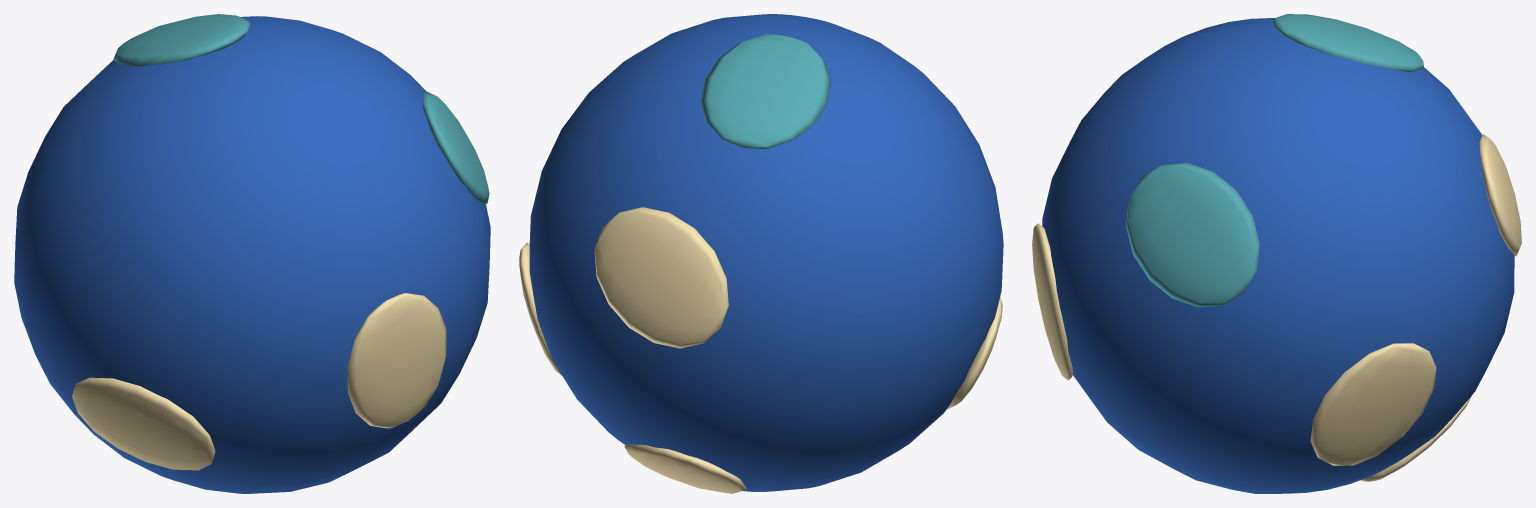
File: blueball.glb
3 views of the same model, side by side, from view 1: azimuth 30°, elevation 25°; view 2: azimuth 150°, elevation 25°; view 3: azimuth 270°, elevation 25° (orthographic).
Parts seen in each view (by area): view 1: blueball; view 2: blueball; view 3: blueball.
Part boxes in pixels (left/top/right/bottom): blueball: left=14, top=14, right=490, bottom=493; blueball: left=519, top=14, right=1003, bottom=493; blueball: left=1032, top=14, right=1521, bottom=493.
Bounding box in the file's own units: 0.9222 × 0.9423 × 0.9521.
